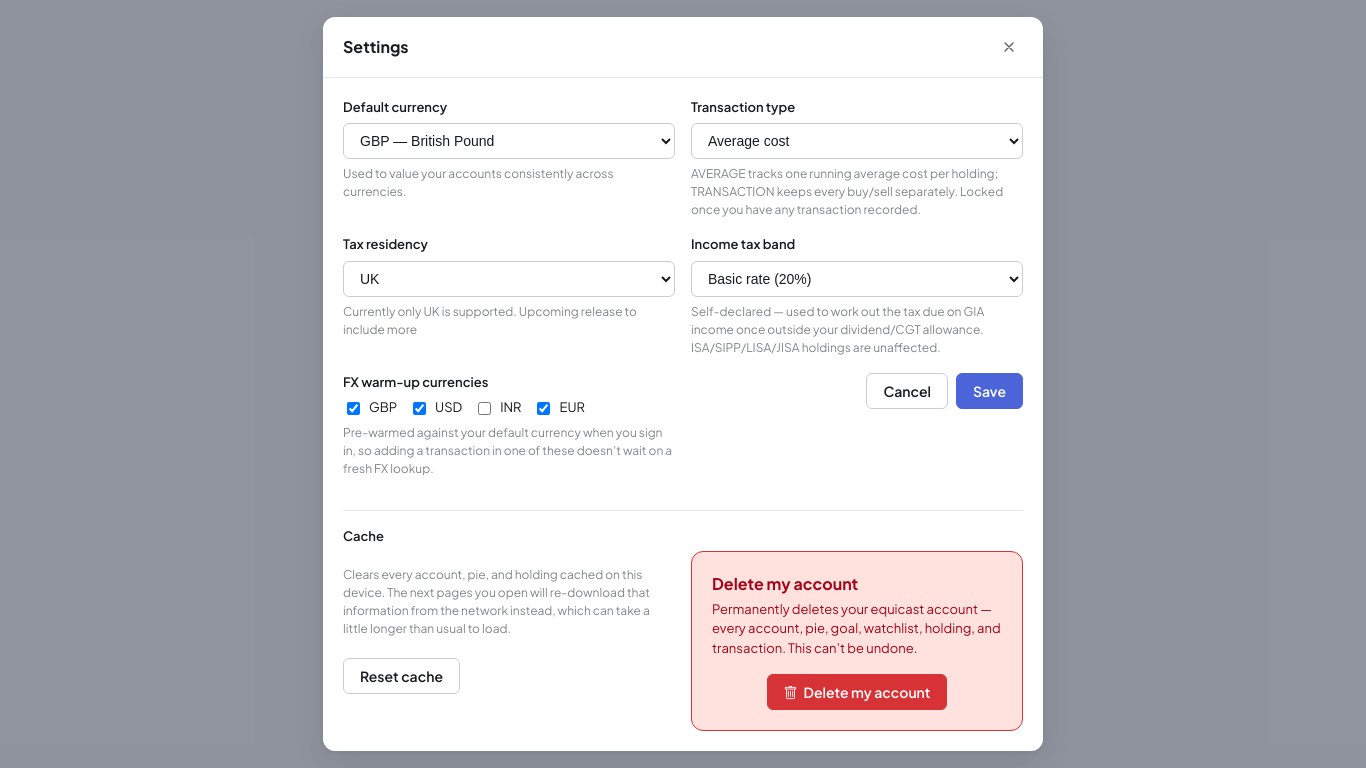
SettingsModal › keeps the delete-account button disabled until the user's email is typed exactly
Click the button "Delete my account".
click(857, 692)  # box [766,674,948,710]
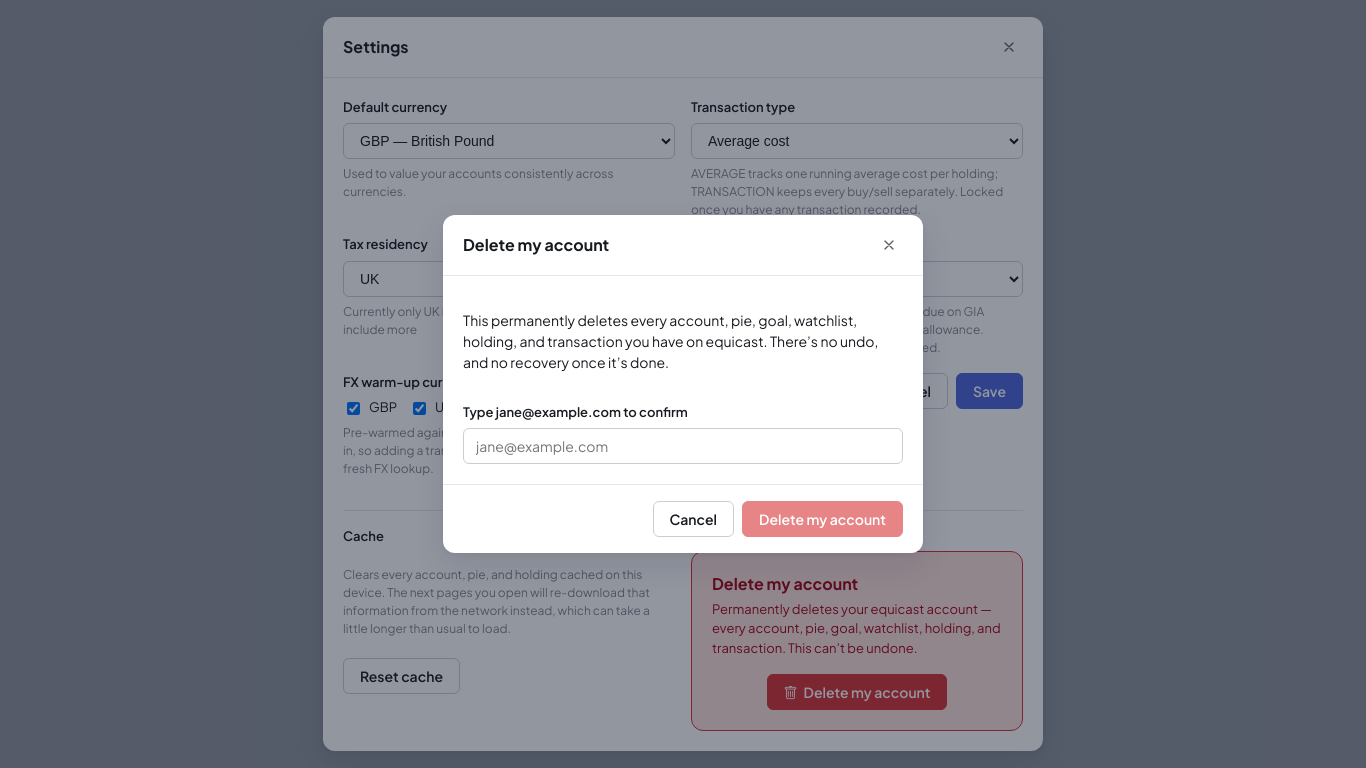
Result: the button "Delete my account" is disabled at [742,501,903,537]
Type "jane@example" into the field labelled "Type jane@example.com to confirm".
click(683, 446); type("jane@example")  # box [463,428,903,464]
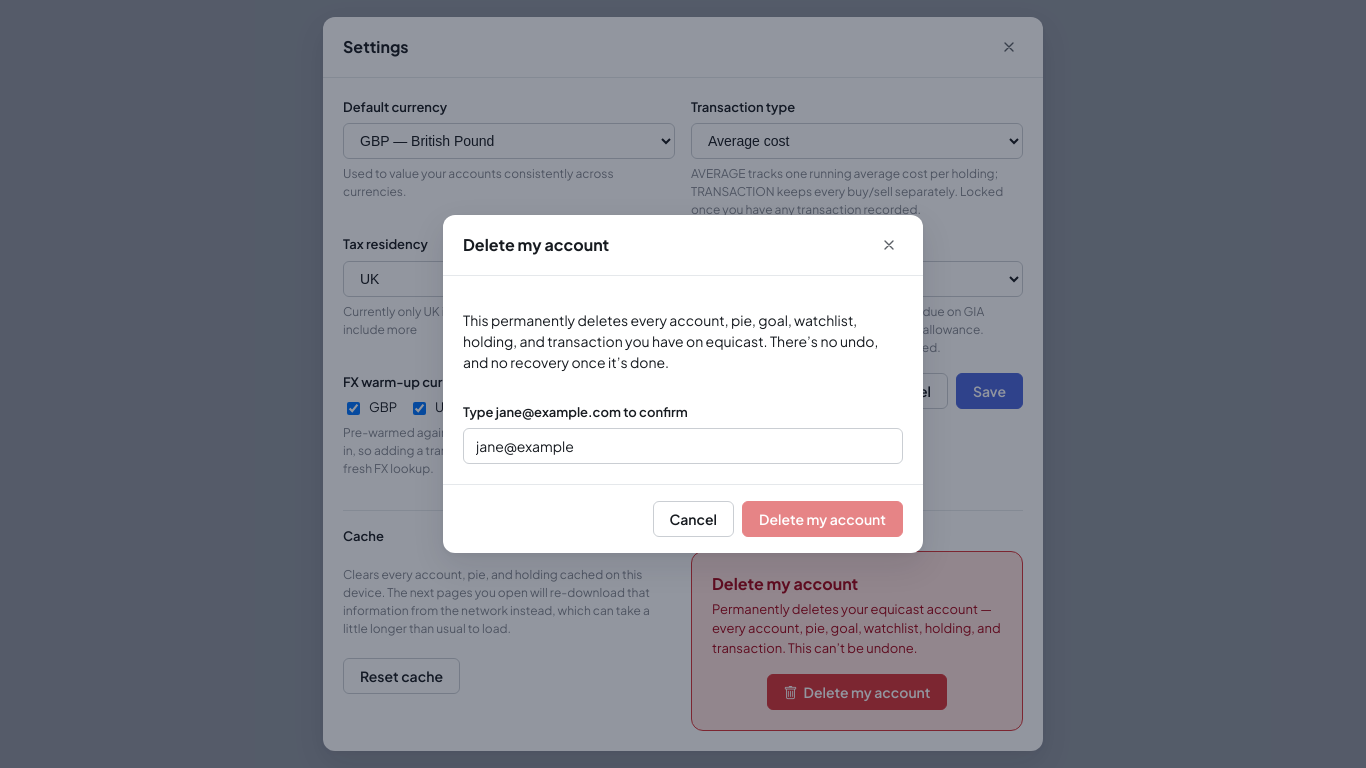
Result: the button "Delete my account" is disabled at [742,501,903,537]
Replace the text in the field labelled "Type jane@example.com to confirm" with "jane@example.com" at coordinates (683, 446), box [463,428,903,464]
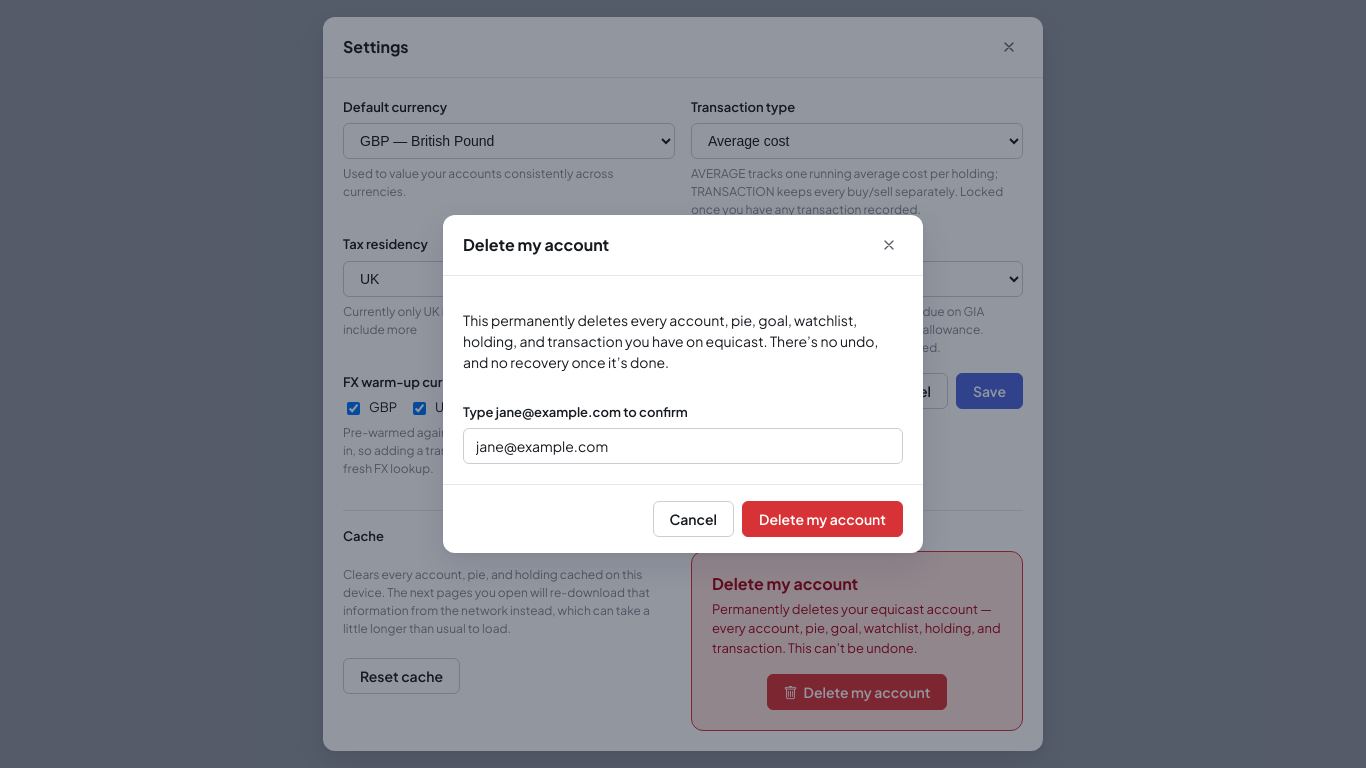
Result: the button "Delete my account" is enabled at [742,501,903,537]
